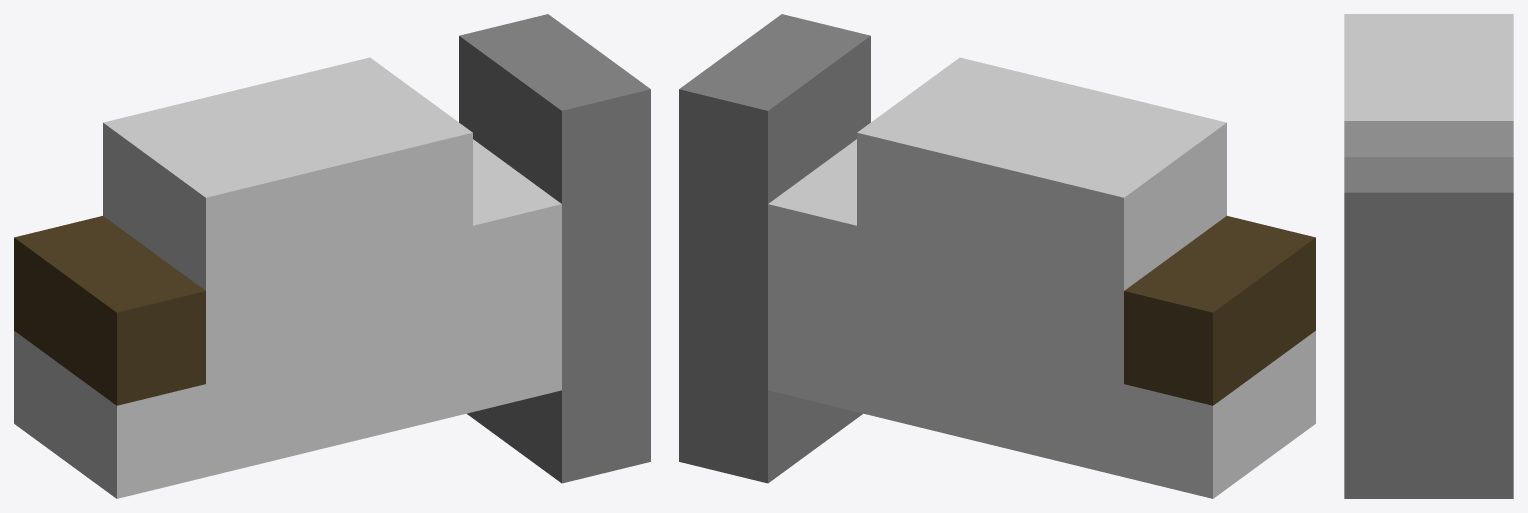
The model's file is serving_fish.glb.
The picture shows the model from 3 angles, left to right: view 1: azimuth 30°, elevation 25°; view 2: azimuth 150°, elevation 25°; view 3: azimuth 270°, elevation 25°; orthographic projection. The views are drawn at different scales.
Visible parts, largest first — view 1: Overlay; view 2: Overlay; view 3: Overlay.
Boxes of the visible parts, <box> form: Overlay: <box>14,14,650,498</box>; Overlay: <box>679,14,1315,498</box>; Overlay: <box>1344,14,1513,498</box>.
Bounding box in the file's own units: 0.375 × 0.25 × 0.125.
